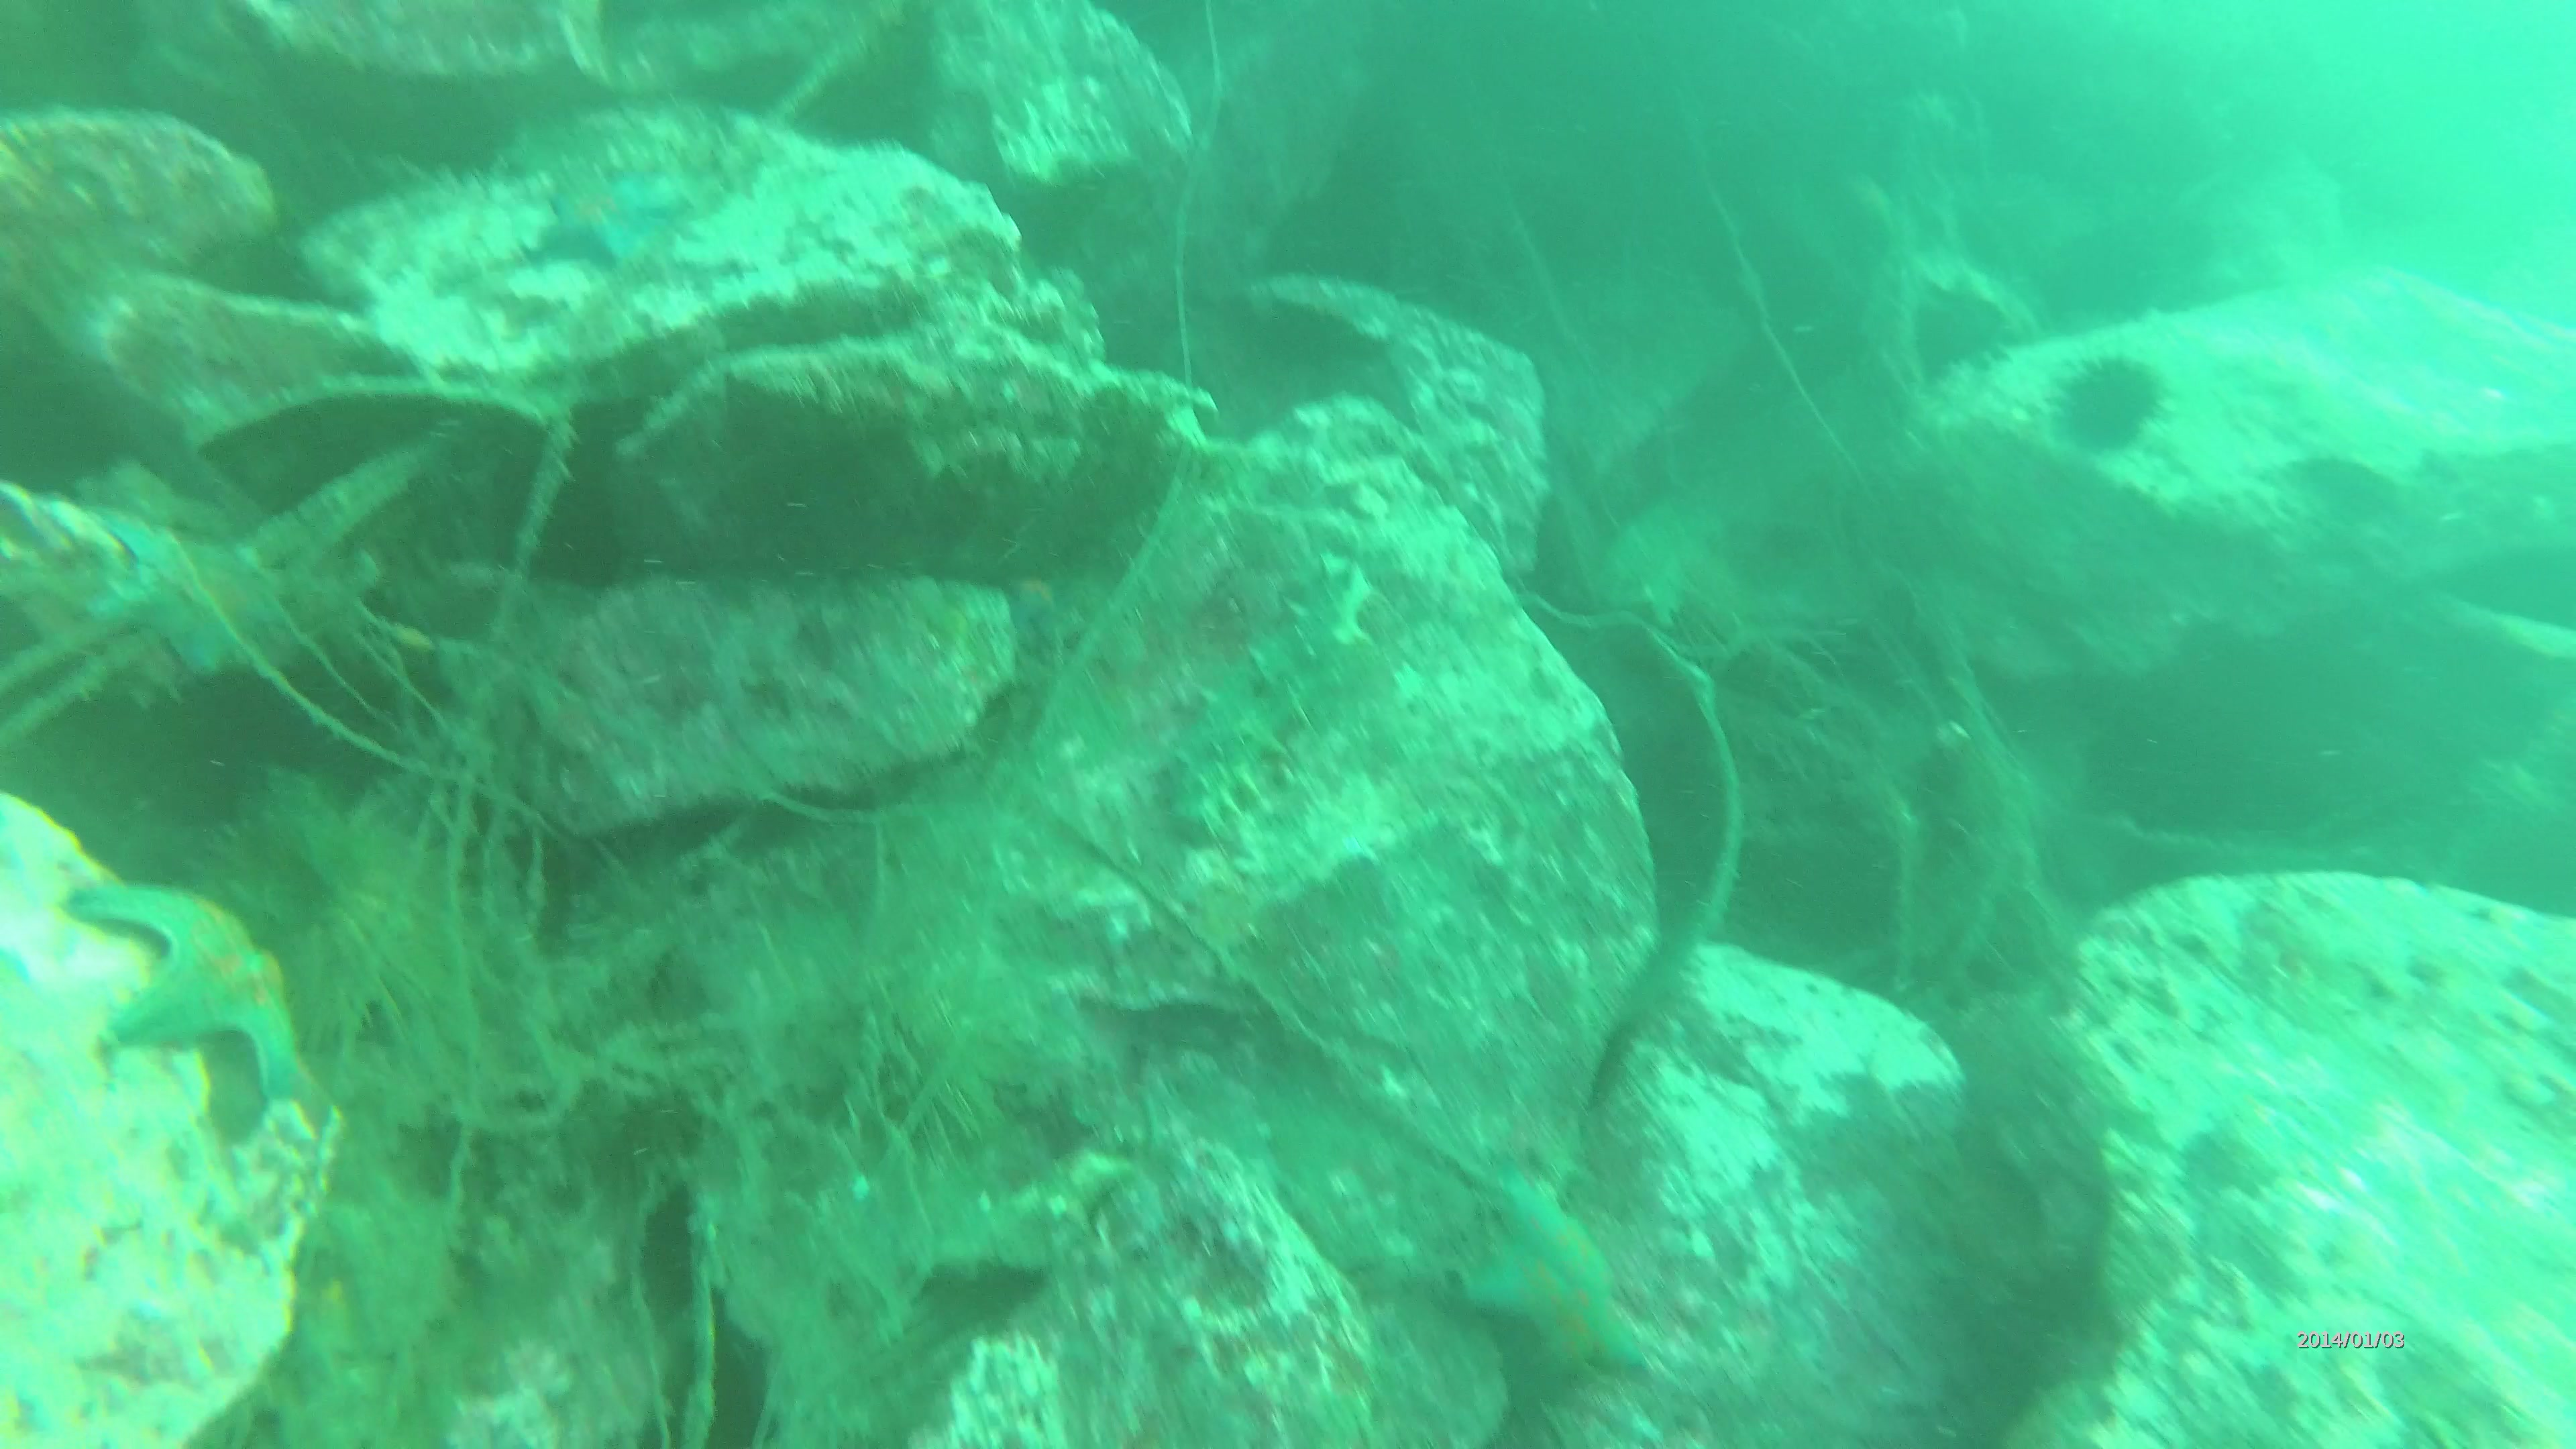echinus: (2054, 338, 2171, 460), (2065, 350, 2173, 455)
holothurian: (1154, 609, 1362, 856)
starfish: (48, 862, 336, 1106), (1442, 1159, 1652, 1394), (92, 508, 299, 686), (536, 166, 699, 274)
